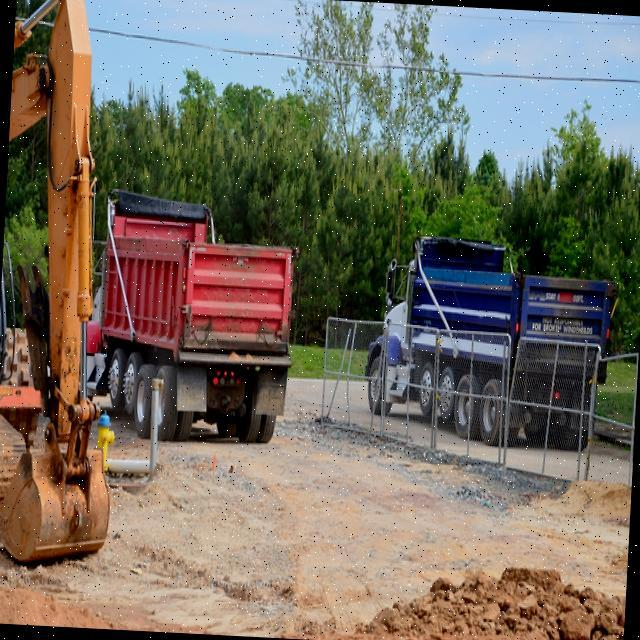fire_hydrant: (94, 410, 118, 474)
